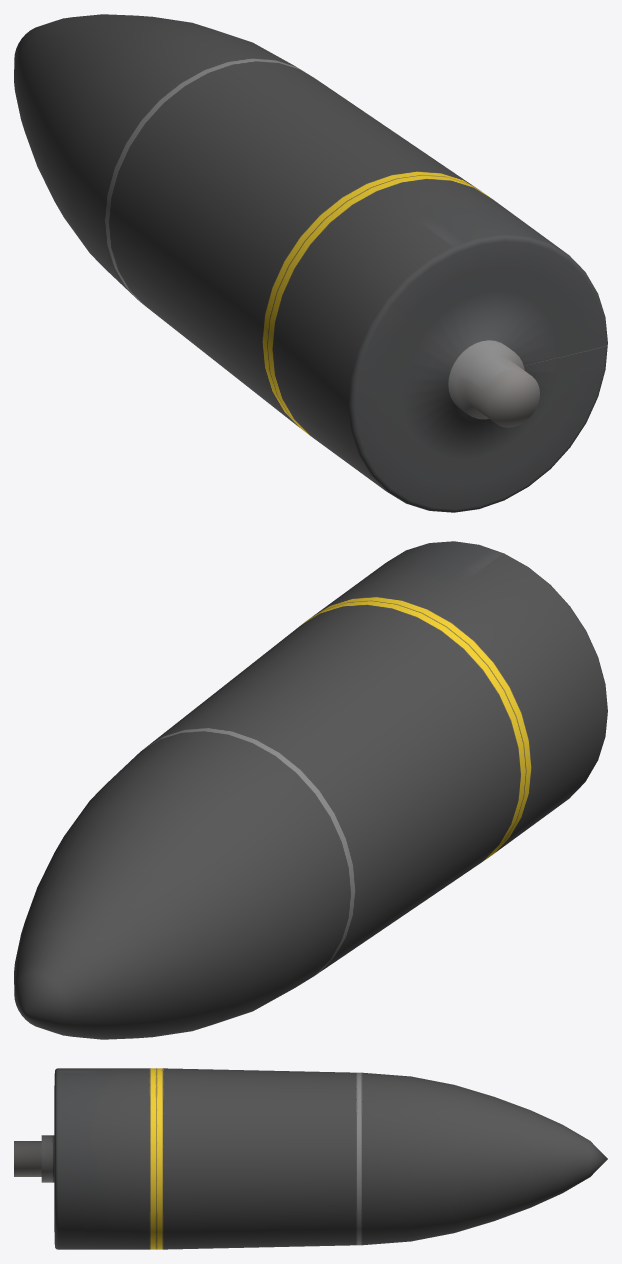
File: aphebc_is1.fbx
3 views of the same model, one above another, from view 1: azimuth 30°, elevation 25°; view 2: azimuth 150°, elevation 25°; view 3: azimuth 270°, elevation 25° (orthographic). The views are drawn at different scales.
Parts seen in each view (by area): view 1: Cylinder; view 2: Cylinder; view 3: Cylinder.
Boxes of the visible parts, x1=… form: Cylinder: x1=14, y1=14, x2=607, y2=512; Cylinder: x1=14, y1=541, x2=607, y2=1039; Cylinder: x1=14, y1=1068, x2=607, y2=1249.
Bounding box in the file's own units: 85 × 85 × 278.
Materials: 1 (1 with a texture image).
